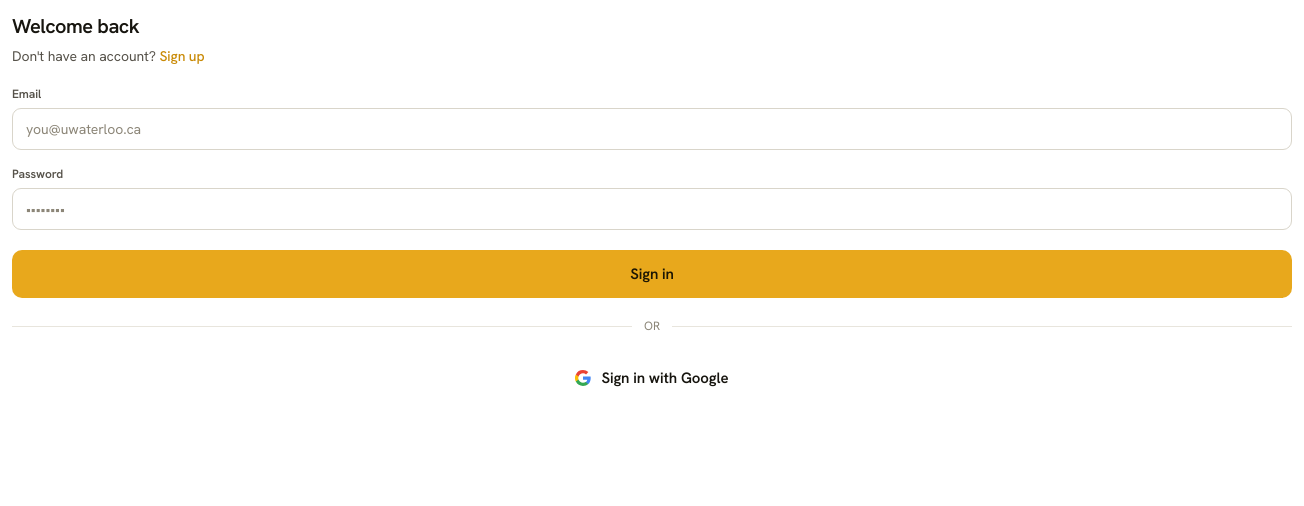
Test: LoginForm — email-only auth (username removed) › maps a duplicate-email signUp error to the email field
Click the button "Sign up" at [182, 56], box [160,46,205,66]
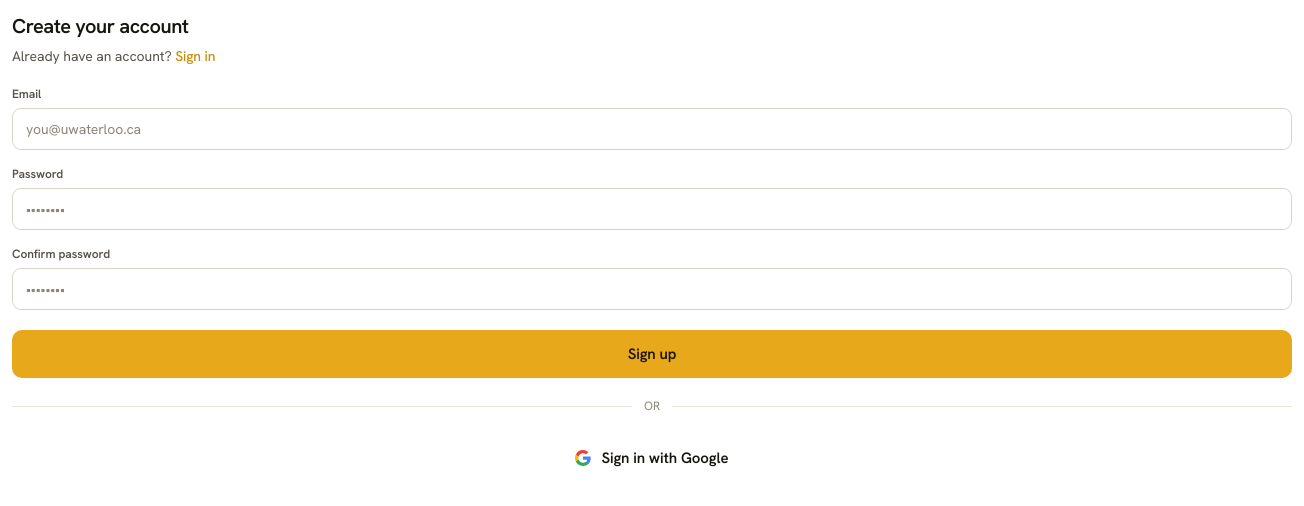
Type "goose@uwaterloo.ca" into the field labelled "Email" at [652, 129], box [12,108,1292,150]
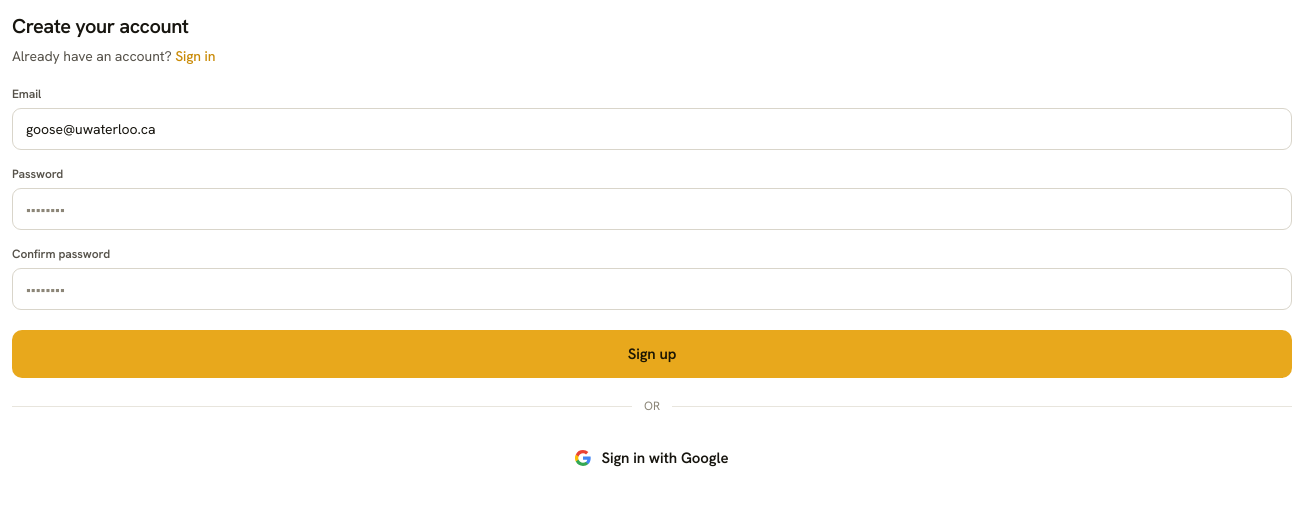
Type "hunter22" into the password field labelled "Password" at [652, 209], box [12,188,1292,230]
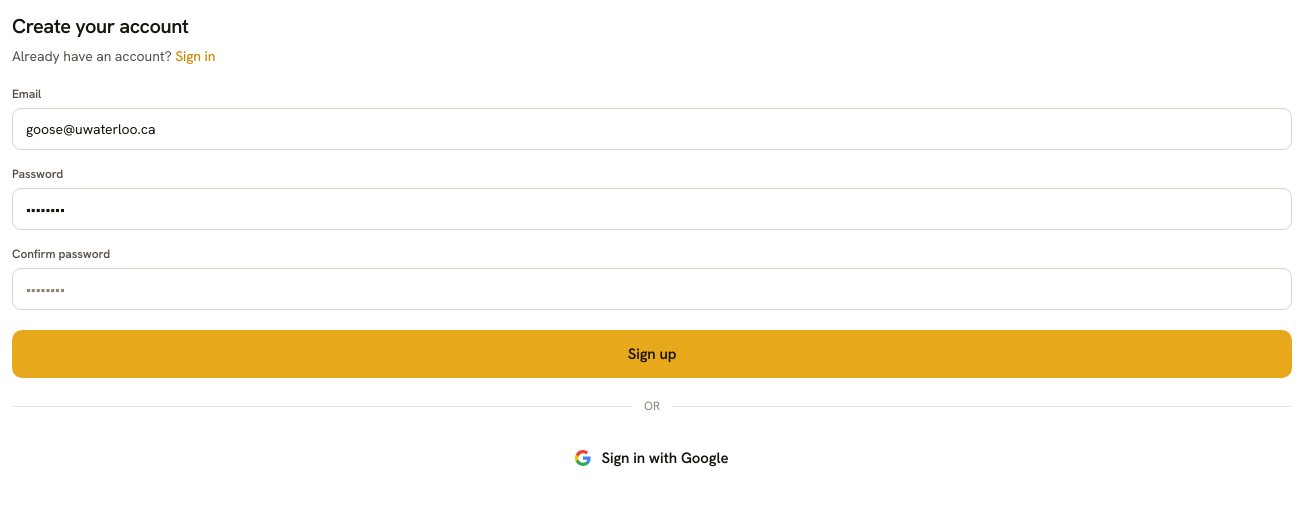
Type "hunter22" into the password field labelled "Confirm password" at [652, 289], box [12,268,1292,310]
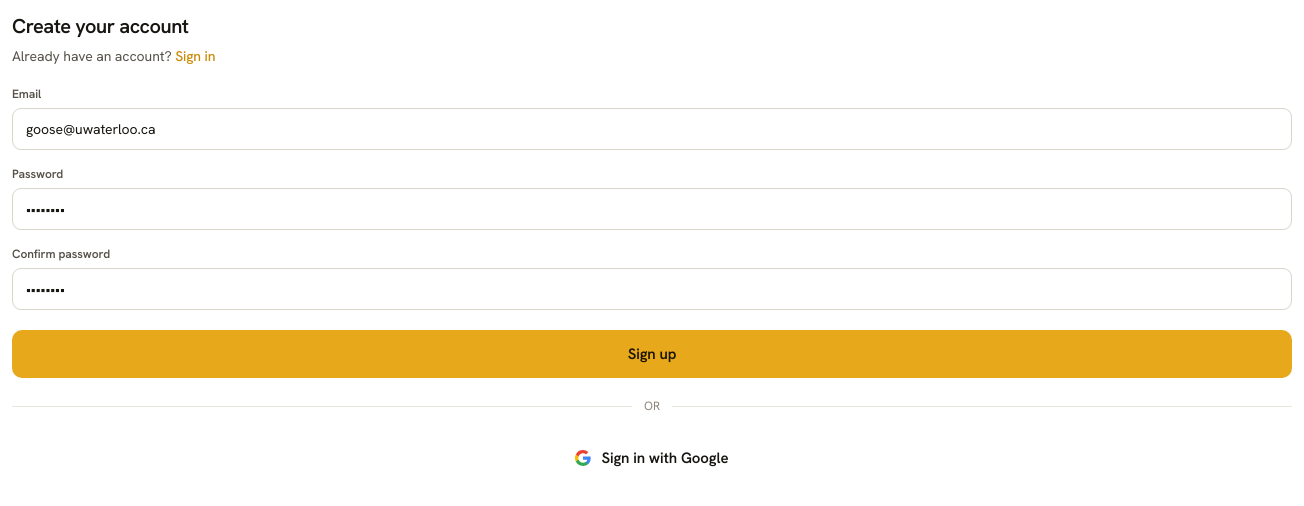
Submit the form "Sign up", box [12,86,1292,378]
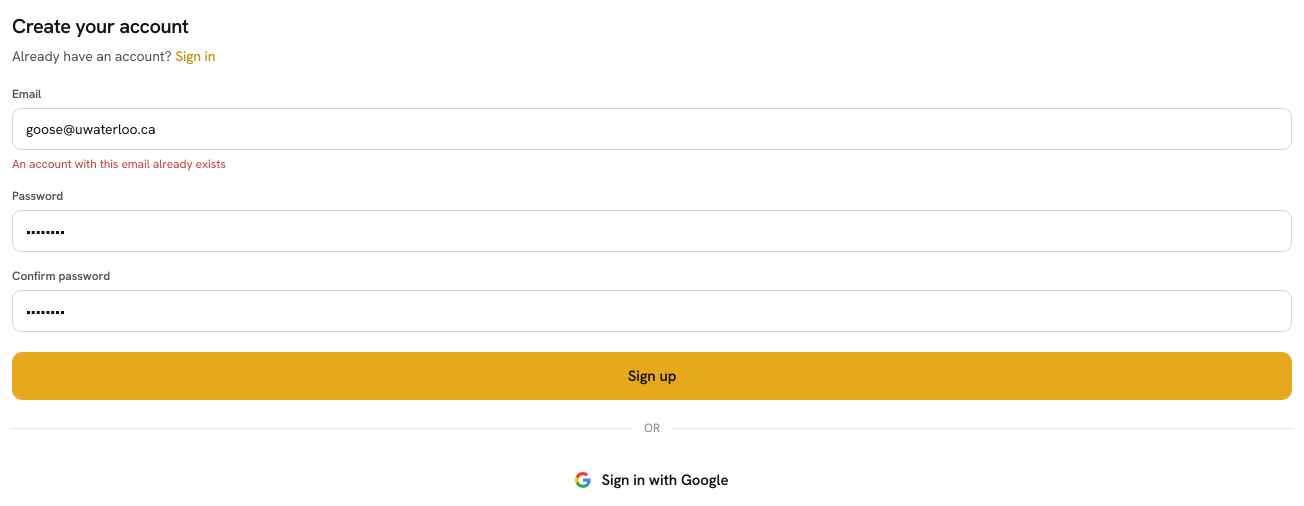
Check: the text "An account with this email already exists" is shown, box [12,156,226,172]
